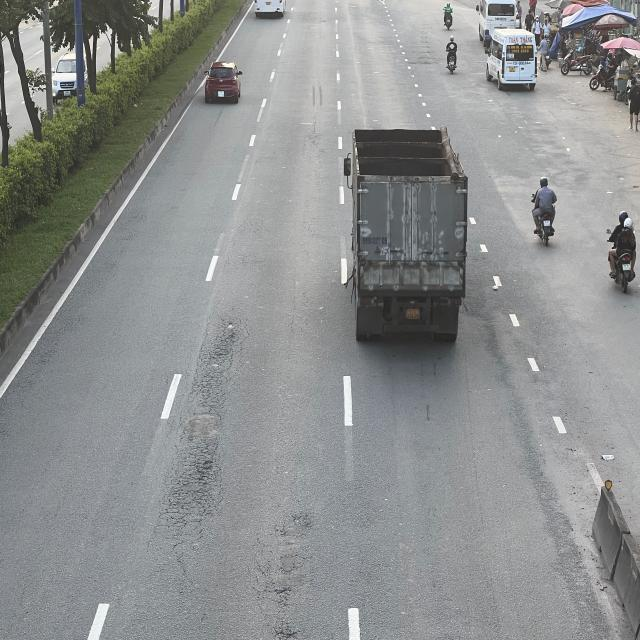car: (203, 60, 244, 106)
truck: (344, 126, 468, 348)
van: (482, 28, 540, 91)
